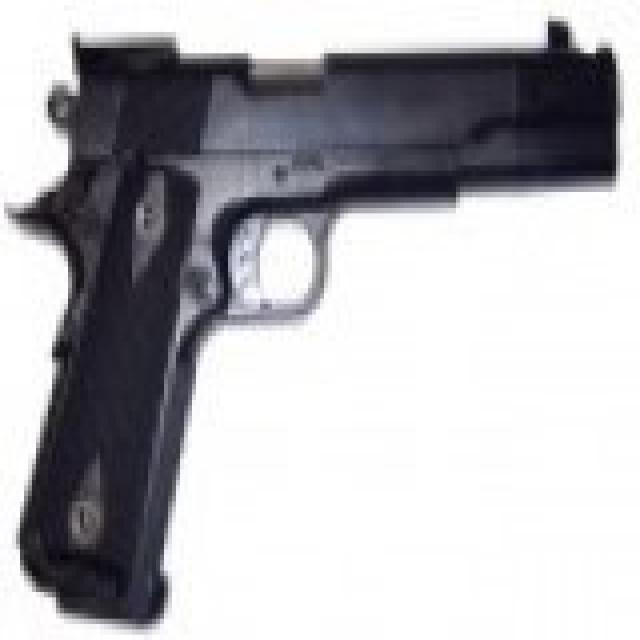Gun: (20, 20, 621, 590)
